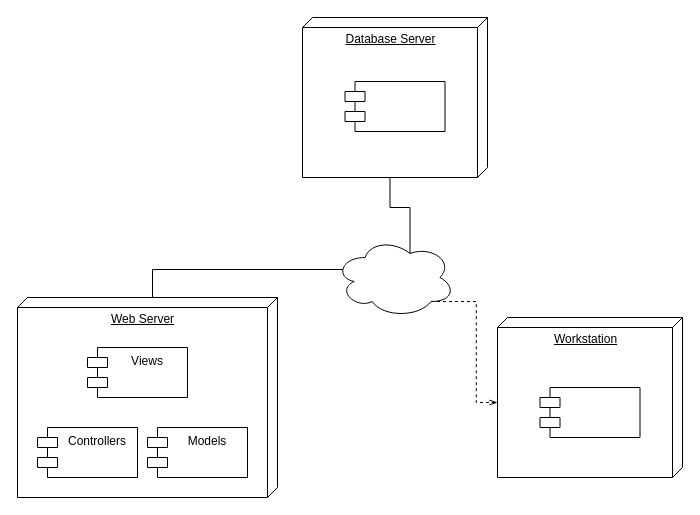
Some shapes in this 700 by 515 pixel diagram are drawn without their labels. Here are the shapes that lost their labels. From the top down, the centre of each, then its label:
At pixel 394 106: "Database".
At pixel 394 277: "Internet".
At pixel 589 412: "Web Browser".
